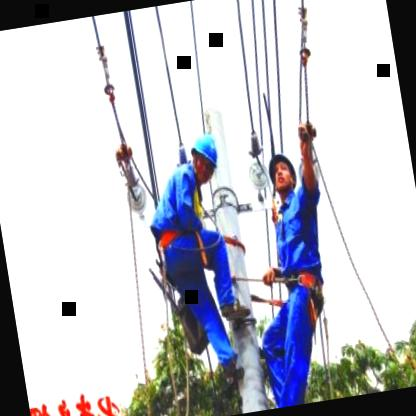helmet: (186, 130, 224, 183), (263, 145, 299, 198)
